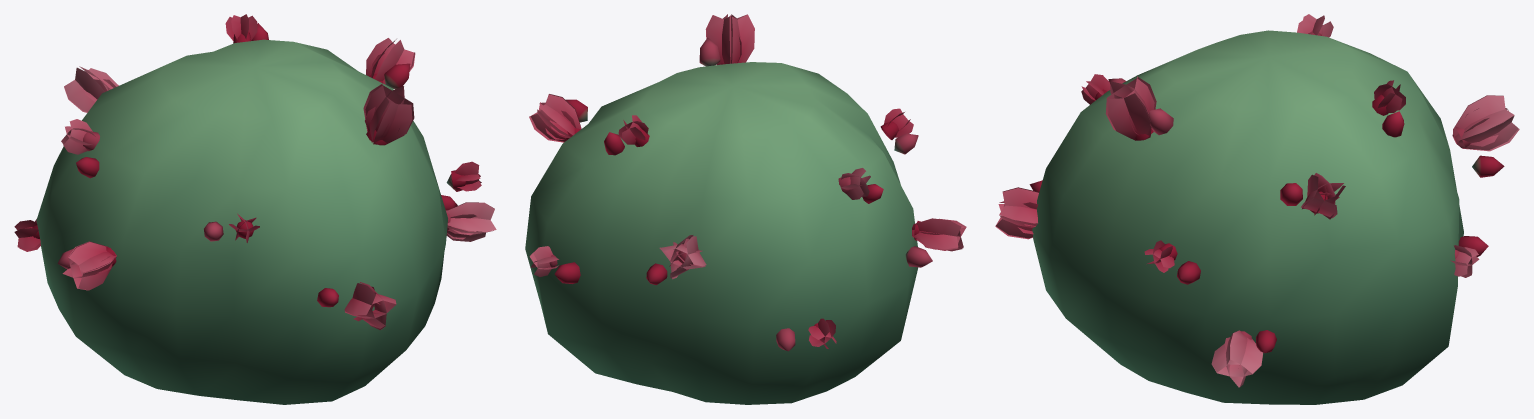
Rendered from rose_crimson.glb.
3 renders of one model, left to right at view 1: azimuth 30°, elevation 25°; view 2: azimuth 150°, elevation 25°; view 3: azimuth 270°, elevation 25°, orthographic. The views are drawn at different scales.
Visible parts, largest first — view 1: rose_crimson; view 2: rose_crimson; view 3: rose_crimson.
Boxes of the visible parts, <box> form: rose_crimson: <box>14,14,496,404</box>; rose_crimson: <box>525,14,966,404</box>; rose_crimson: <box>995,14,1519,404</box>.
Size of what is drawn, in the model's own units: 1.9 by 1.2 by 1.9.
